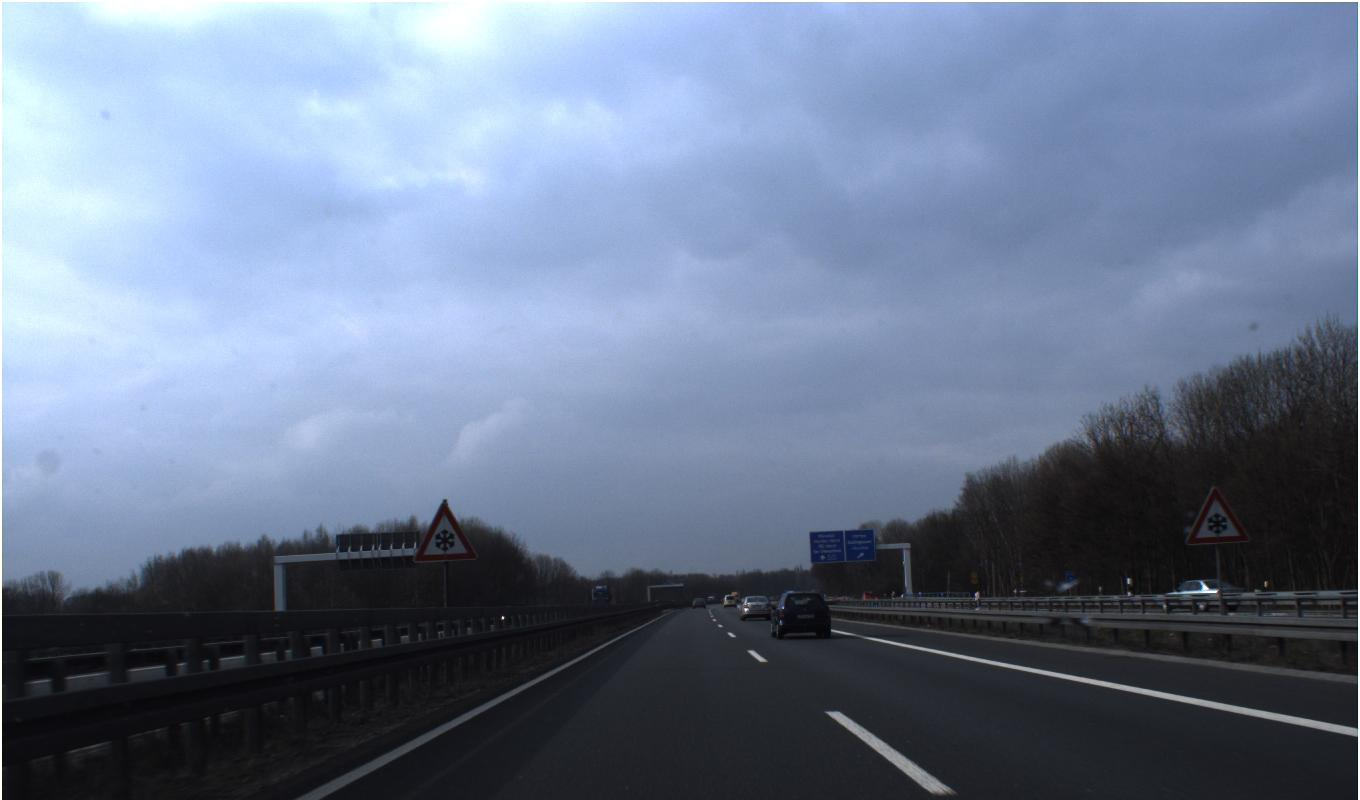danger: (411, 499, 477, 563), (1185, 484, 1251, 547)
